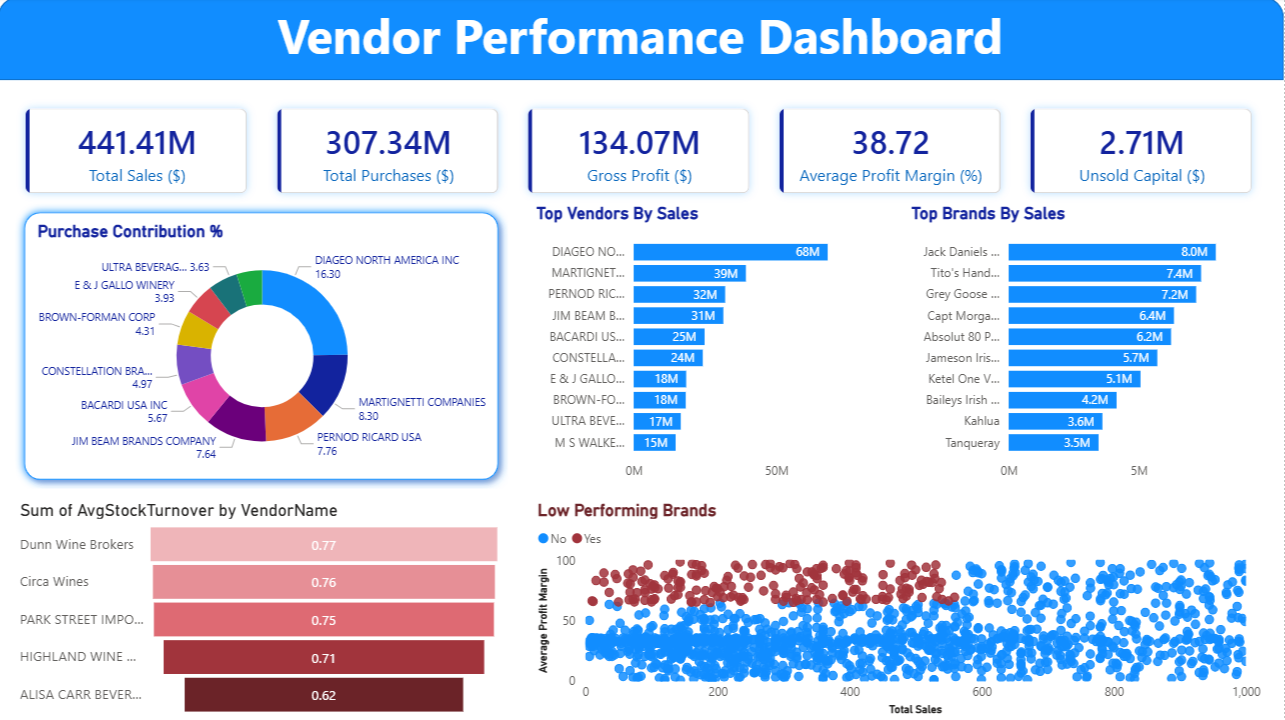

The page's visual inventory and layout, read from the dashboard file:
{"tool":"powerbi","page":{"name":"Page 1","canvas":[1280,720],"ordinal":0},"visuals":[{"type":"cardVisual","fields":{"Data":["Sum(output.TotalSalesDollars)","Sum(output.TotalPurchaseDollars)","Sum(output.GrossProfit)","Avg(output.ProfitMargin)","Sum(output.UnsoldCapital)"]},"box":[0,82.9,1280,140],"z":0},{"type":"shape","box":[0,0,1280,82.9],"z":1000},{"type":"textbox","box":[17.1,0,1244.3,82.9],"z":2000},{"type":"shape","box":[17.1,205.7,490,284.3],"z":3000},{"type":"donutChart","title":"Purchase Contribution %","fields":{"Y":["Sum(PurchaseContribution.PurchaseContribution%)"],"Category":["PurchaseContribution.VendorName"]},"box":[34.3,222.9,457.1,250],"z":4000},{"type":"clusteredBarChart","title":"Top Vendors By Sales","fields":{"Category":["output.VendorName"],"Y":["Sum(output.TotalSalesDollars)"]},"box":[531.4,205.7,357.1,284.3],"z":5000},{"type":"clusteredBarChart","title":"Top Brands By Sales","fields":{"Y":["Sum(output.TotalSalesDollars)"],"Category":["output.Description"]},"box":[904.3,205.7,357.1,284.3],"z":6000},{"type":"funnel","fields":{"Category":["LowTurnoverVendor.VendorName"],"Y":["Sum(LowTurnoverVendor.AvgStockTurnover)"]},"box":[17,500,490,220],"z":6001},{"type":"scatterChart","title":"Low Performing Brands","fields":{"Category":["BrandPerformance.Description"],"X":["Sum(BrandPerformance.TotalSales)"],"Series":["BrandPerformance.TargetBrand"],"Y":["Avg(BrandPerformance.AvgProfitMargin)"]},"box":[532,500,730,220],"z":6002}]}

Visuals, with their boxes in screenshot pixels (x1, y1, x2, y2), scaled from the page's 1280x720 canvas onto the 1285x720 screenshot:
cardVisual - Sum(output.TotalSalesDollars) x Sum(output.TotalPurchaseDollars): bbox=(0, 83, 1284, 223)
shape: bbox=(0, 0, 1284, 83)
textbox: bbox=(17, 0, 1266, 83)
shape: bbox=(17, 206, 509, 490)
"Purchase Contribution %" donutChart: bbox=(34, 223, 493, 473)
"Top Vendors By Sales" clusteredBarChart: bbox=(533, 206, 892, 490)
"Top Brands By Sales" clusteredBarChart: bbox=(908, 206, 1266, 490)
funnel - LowTurnoverVendor.VendorName x Sum(LowTurnoverVendor.AvgStockTurnover): bbox=(17, 500, 509, 719)
"Low Performing Brands" scatterChart: bbox=(534, 500, 1267, 719)
